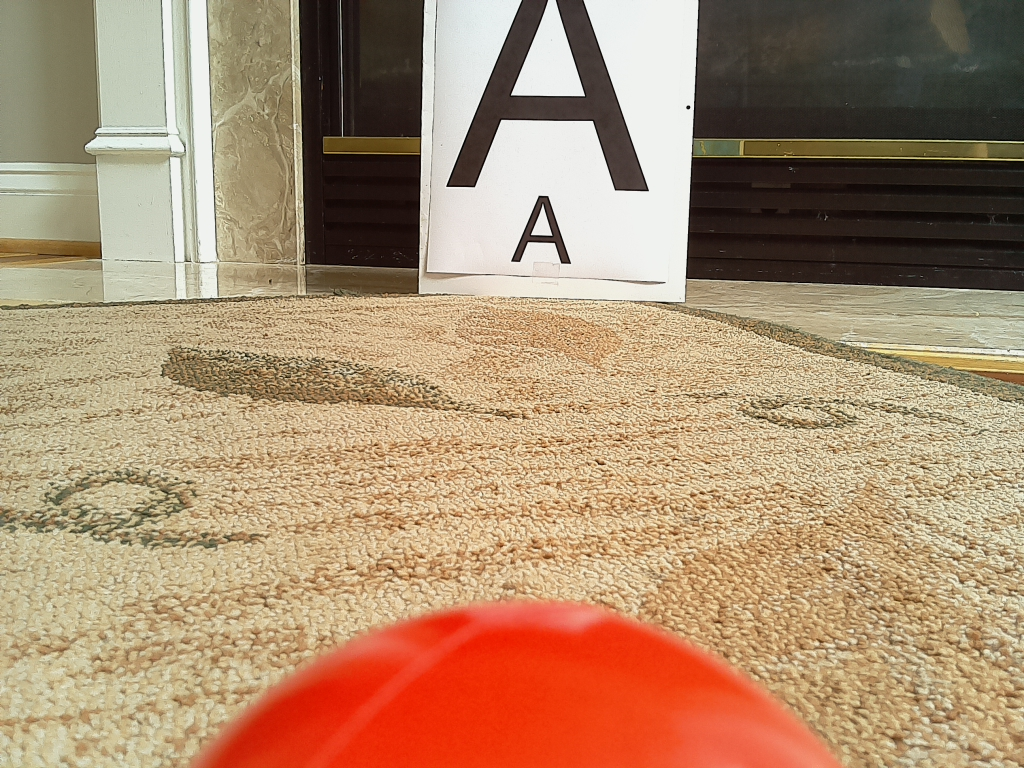letter: (446, 1, 650, 191)
